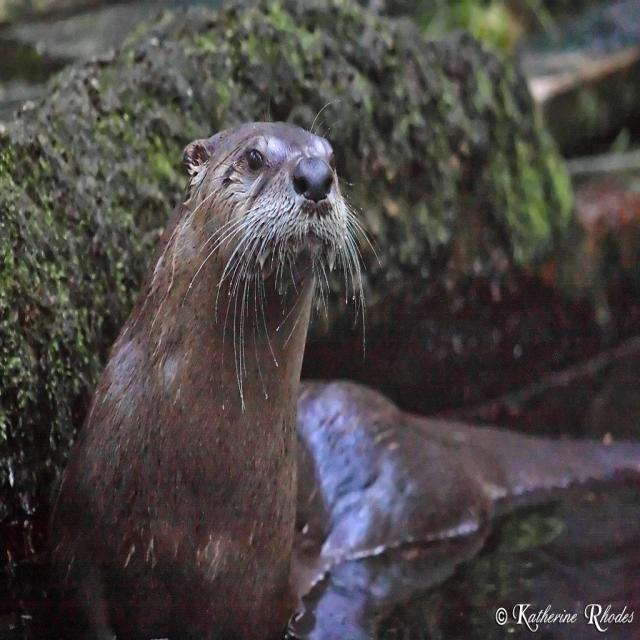otter: (157, 120, 342, 378)
